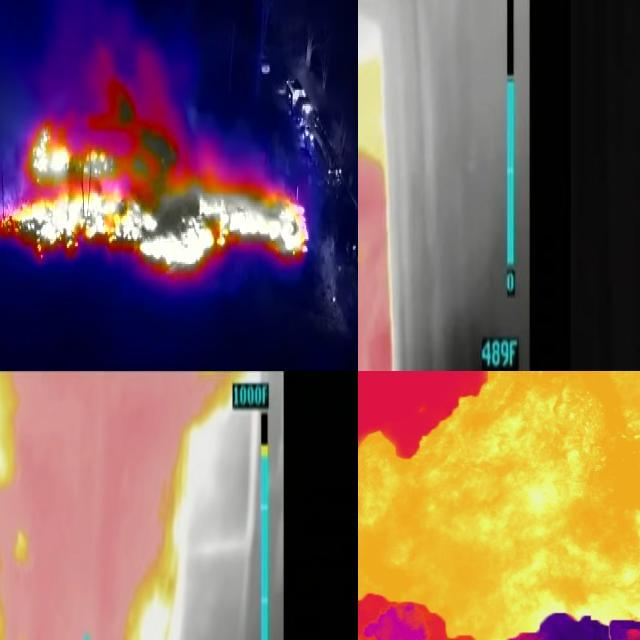fire: (1, 372, 230, 640), (359, 372, 579, 640), (1, 104, 305, 273)
